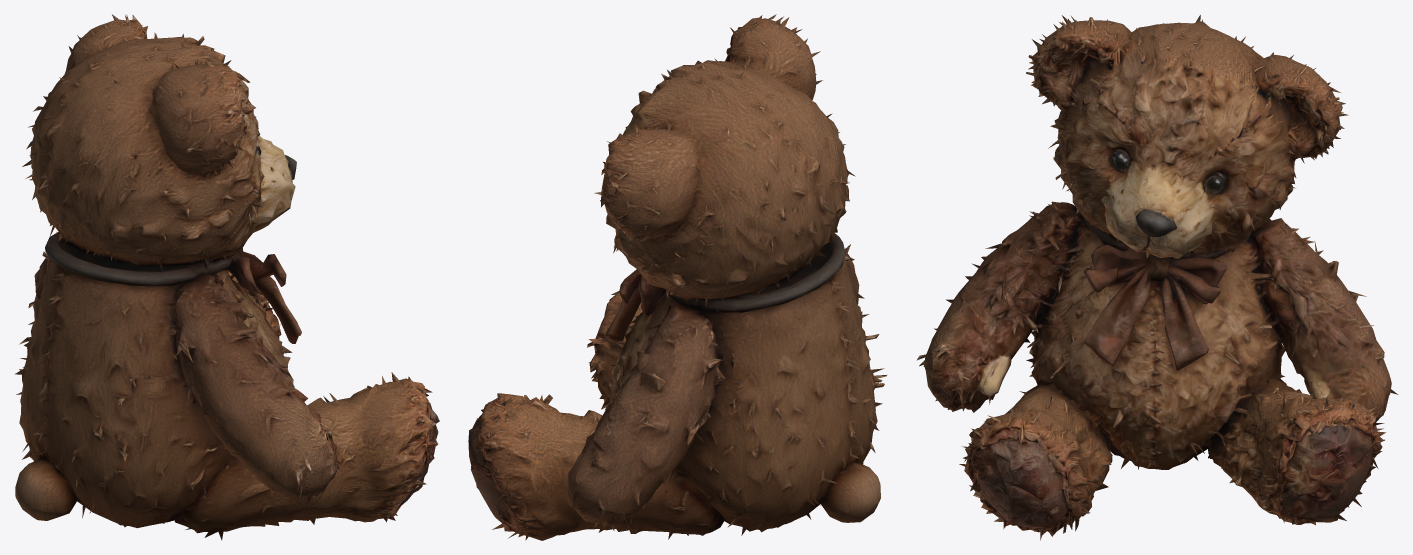
The model's file is scene-teddy-bear-v03.glb.
3 views of the same model, side by side, from view 1: azimuth 30°, elevation 25°; view 2: azimuth 150°, elevation 25°; view 3: azimuth 270°, elevation 25° (orthographic). The views are drawn at different scales.
Parts seen in each view (by area): view 1: tripo_node_cdf0dd04-b9de-4a40-8833-074e489804d2; view 2: tripo_node_cdf0dd04-b9de-4a40-8833-074e489804d2; view 3: tripo_node_cdf0dd04-b9de-4a40-8833-074e489804d2.
Boxes of the visible parts, <box> form: tripo_node_cdf0dd04-b9de-4a40-8833-074e489804d2: <box>15,14,439,540</box>; tripo_node_cdf0dd04-b9de-4a40-8833-074e489804d2: <box>468,14,887,540</box>; tripo_node_cdf0dd04-b9de-4a40-8833-074e489804d2: <box>916,15,1397,540</box>.
Size of the model in its own units: 0.3898 by 0.5 by 0.489.
Materials: 1 (1 with a texture image).
